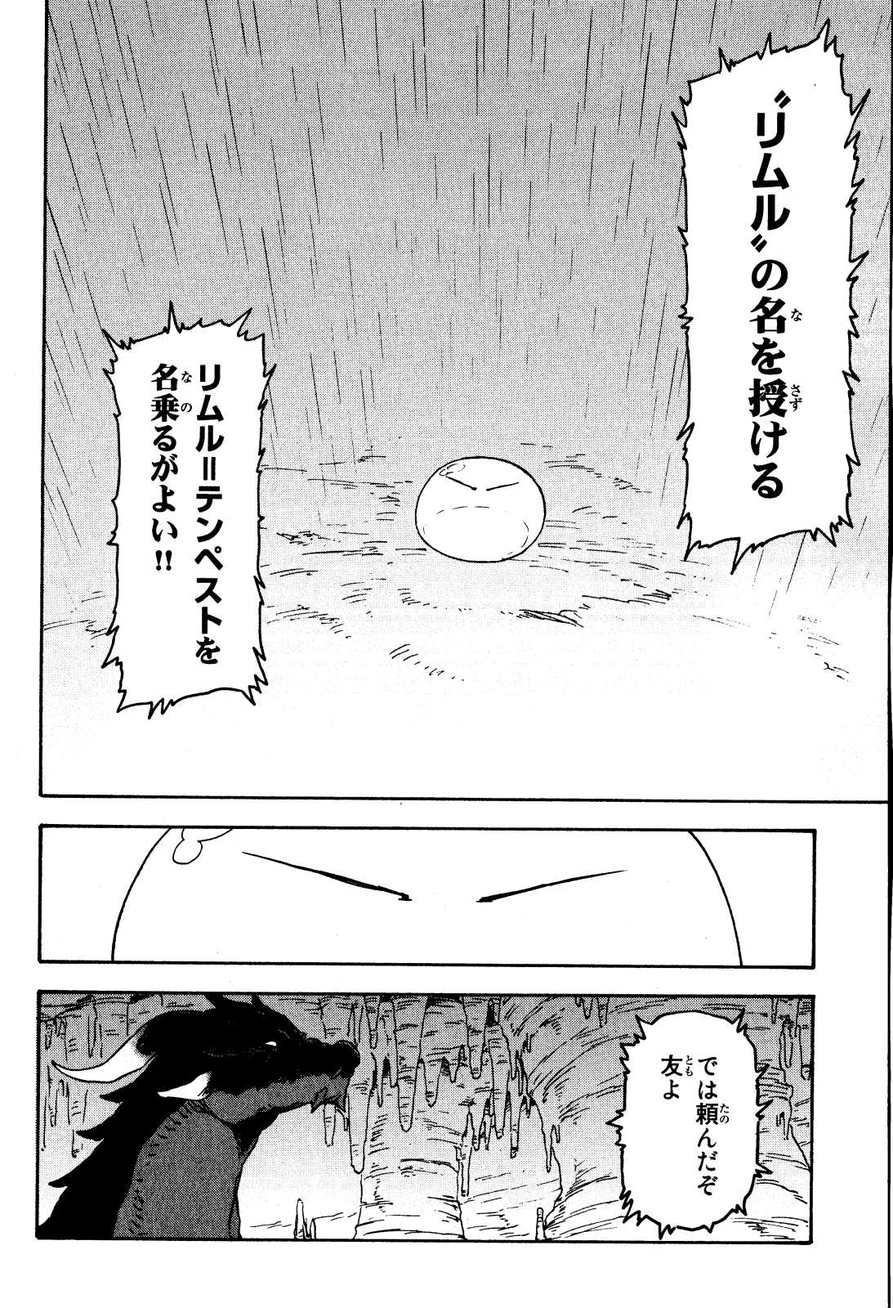bubbles: (664, 9, 873, 588), (82, 295, 301, 723), (609, 996, 786, 1241)
